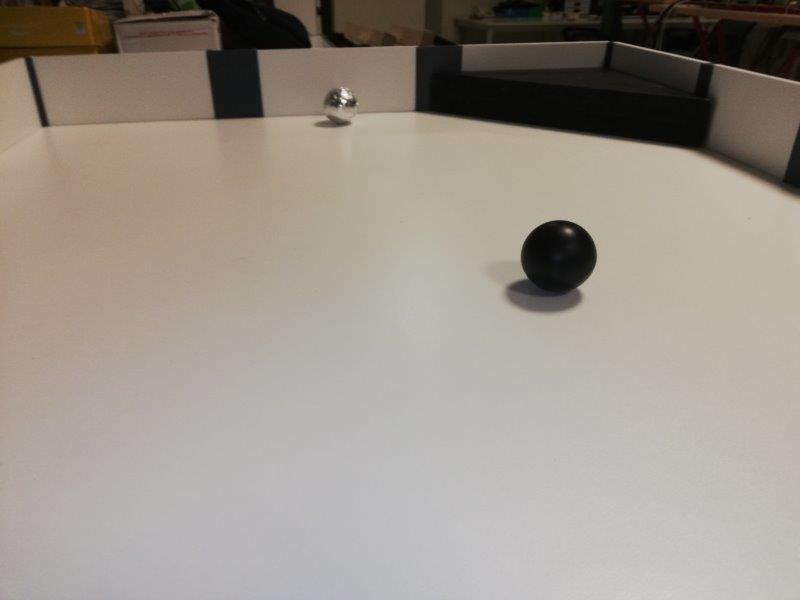nera: (522, 219, 599, 295), (325, 87, 361, 122)
